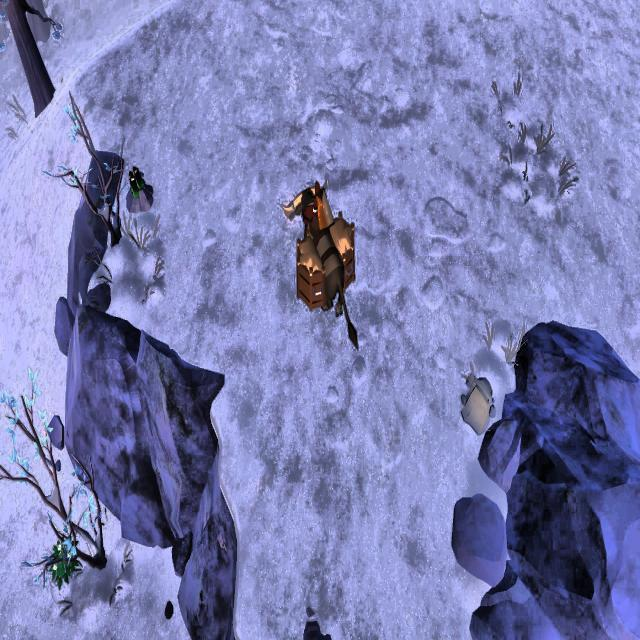fiber_t3: (46, 535, 79, 590)
ore_t3: (127, 161, 145, 197)
